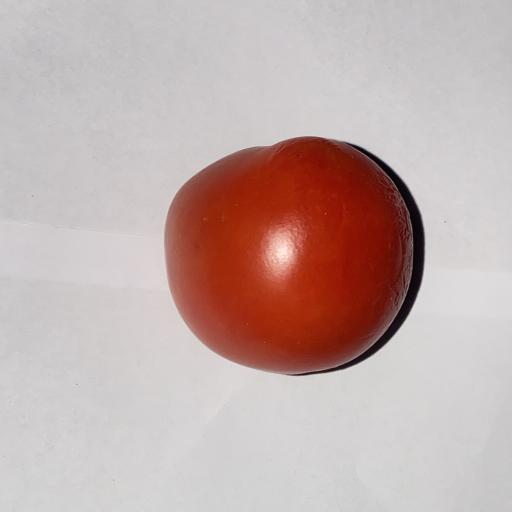overipe: (264, 226, 298, 279)
